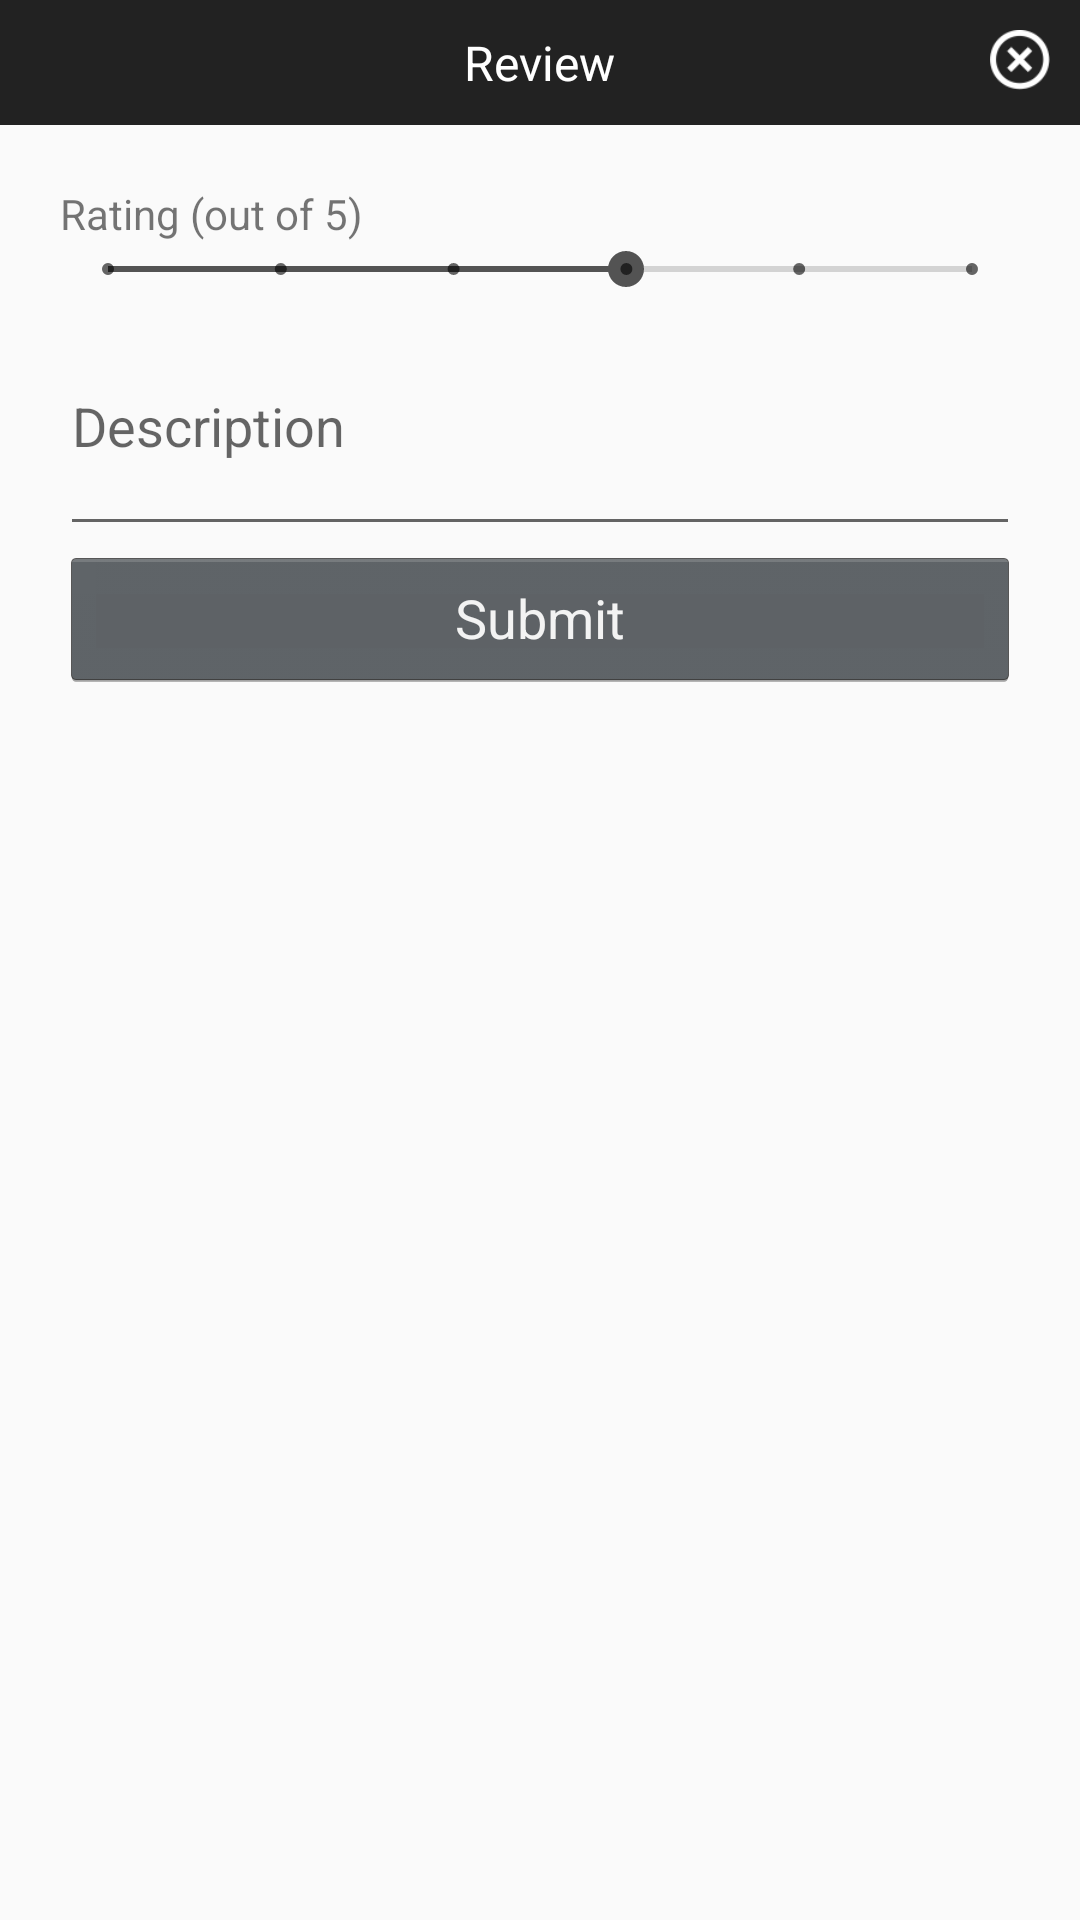

Icon click points for this 1080*1920 phone screenshot, format (x,y):
close: (1020,60)
